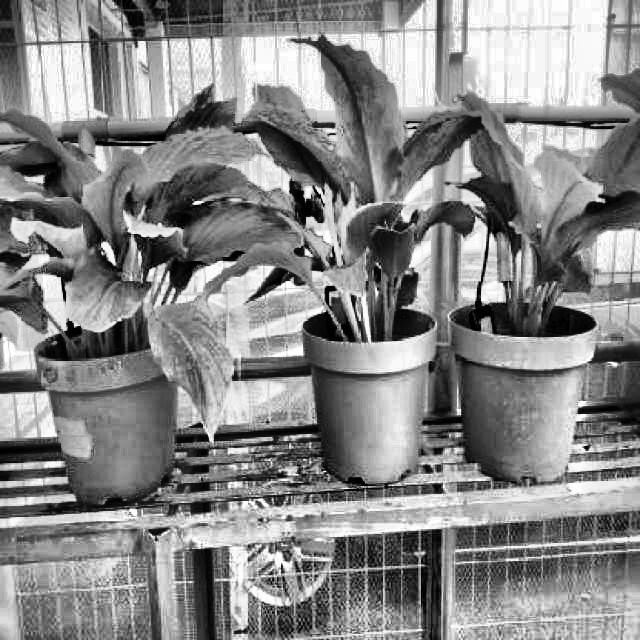plants: (0, 90, 286, 422), (246, 26, 484, 345), (429, 72, 640, 346)
